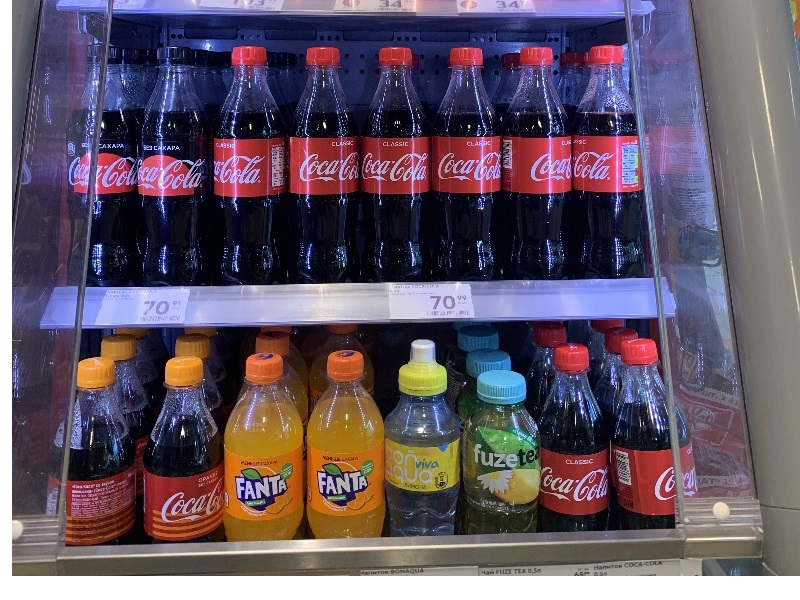lemonade: (355, 42, 446, 295), (206, 44, 296, 296), (567, 43, 654, 284), (130, 44, 214, 292), (284, 45, 366, 294), (496, 44, 578, 289), (427, 45, 507, 288), (216, 353, 317, 542), (303, 348, 396, 540)
